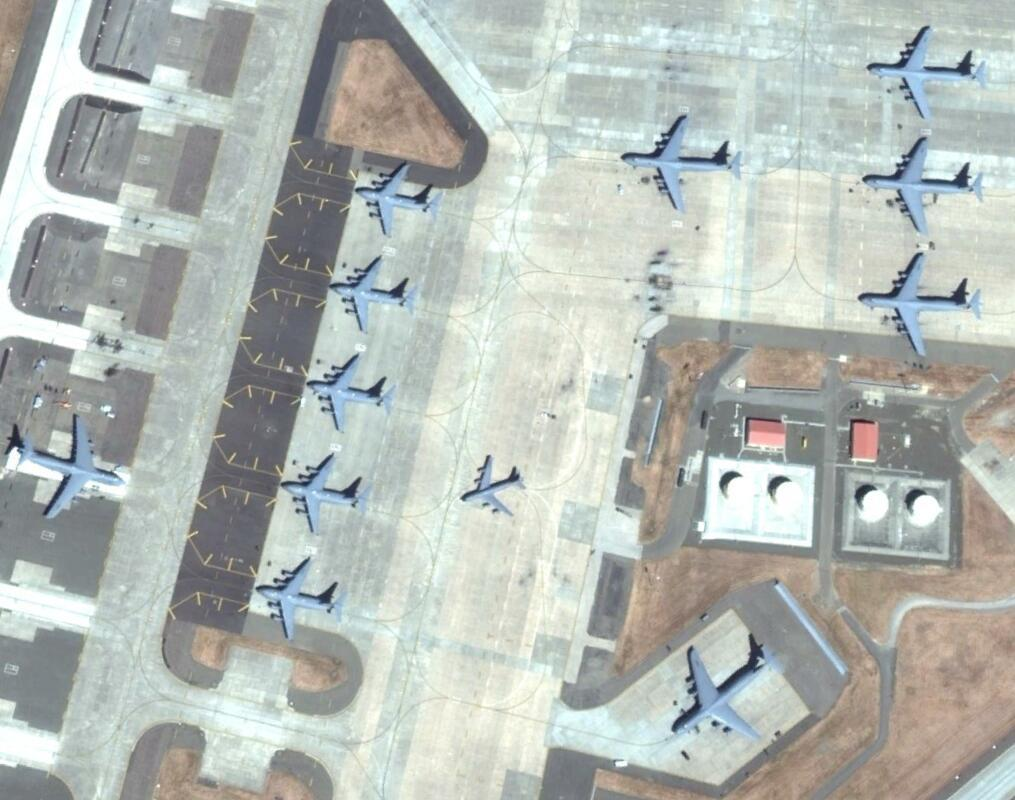A14: (460, 453, 526, 518)
A3: (257, 559, 342, 641), (306, 351, 395, 429), (281, 455, 369, 532), (329, 256, 418, 330), (354, 161, 442, 235)
A4: (857, 253, 983, 358), (12, 415, 126, 524), (863, 134, 985, 232), (622, 114, 742, 213), (671, 639, 780, 745), (868, 24, 987, 119)
